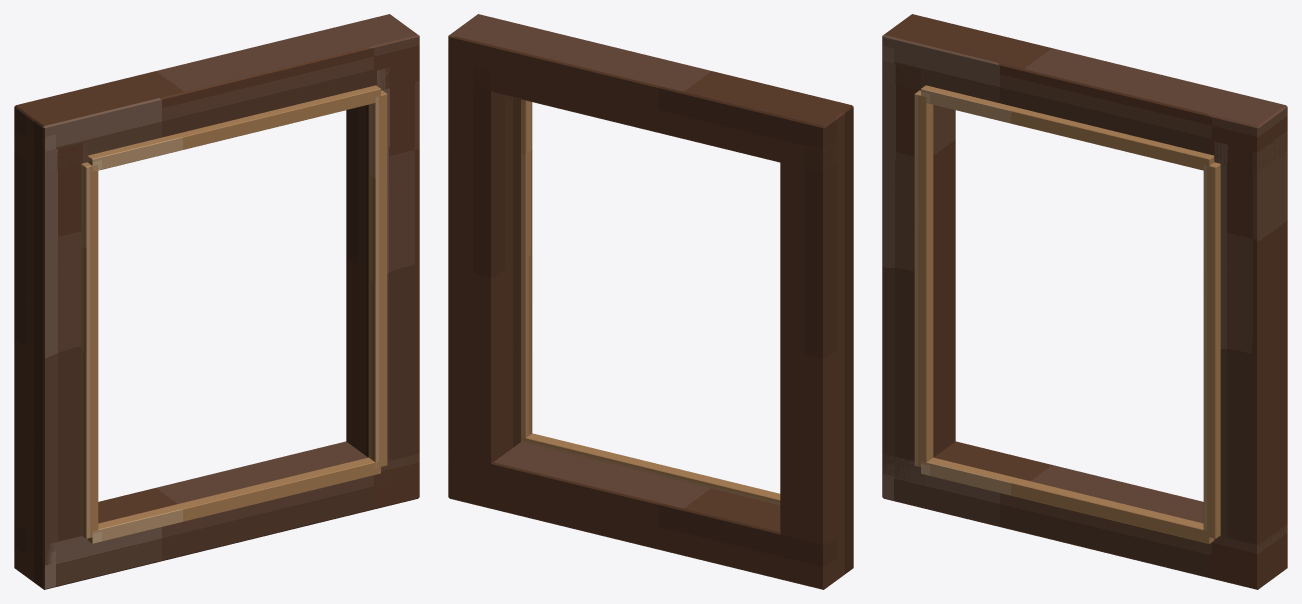
File: normal_picture_frame_empty.glb
3 renders of one model, left to right at view 1: azimuth 30°, elevation 25°; view 2: azimuth 150°, elevation 25°; view 3: azimuth 330°, elevation 25°, orthographic.
Visible parts, largest first — view 1: FrameTop, FrameL, FrameBottom, FrameR, InnerTrimR, InnerTrimL, InnerTrimBottom, InnerTrimTop; view 2: FrameL, FrameTop, FrameR, FrameBottom, InnerTrimR, InnerTrimBottom; view 3: FrameR, FrameTop, FrameL, FrameBottom, InnerTrimL, InnerTrimR, InnerTrimBottom, InnerTrimTop.
Part boxes in pixels (x1,y1,x2,y2): FrameTop: (14,14,419,172); FrameL: (14,132,87,565); FrameBottom: (14,441,419,589); FrameR: (346,67,419,483); InnerTrimR: (368,90,387,467); InnerTrimL: (81,162,98,538); InnerTrimBottom: (87,457,380,543); InnerTrimTop: (87,85,380,171); FrameL: (780,131,853,558); FrameTop: (448,14,853,171); FrameR: (448,60,520,483); FrameBottom: (448,442,853,589); InnerTrimR: (521,99,532,441); InnerTrimBottom: (521,433,780,505); FrameR: (1214,131,1287,558); FrameTop: (882,14,1287,171); FrameL: (882,60,955,482); FrameBottom: (882,441,1287,589); InnerTrimL: (914,90,933,466); InnerTrimR: (1203,162,1220,538); InnerTrimBottom: (921,457,1214,543); InnerTrimTop: (921,85,1214,171).
Size of the model in its own units: 0.795 by 0.935 by 0.1276.
Materials: 1 (1 with a texture image).
